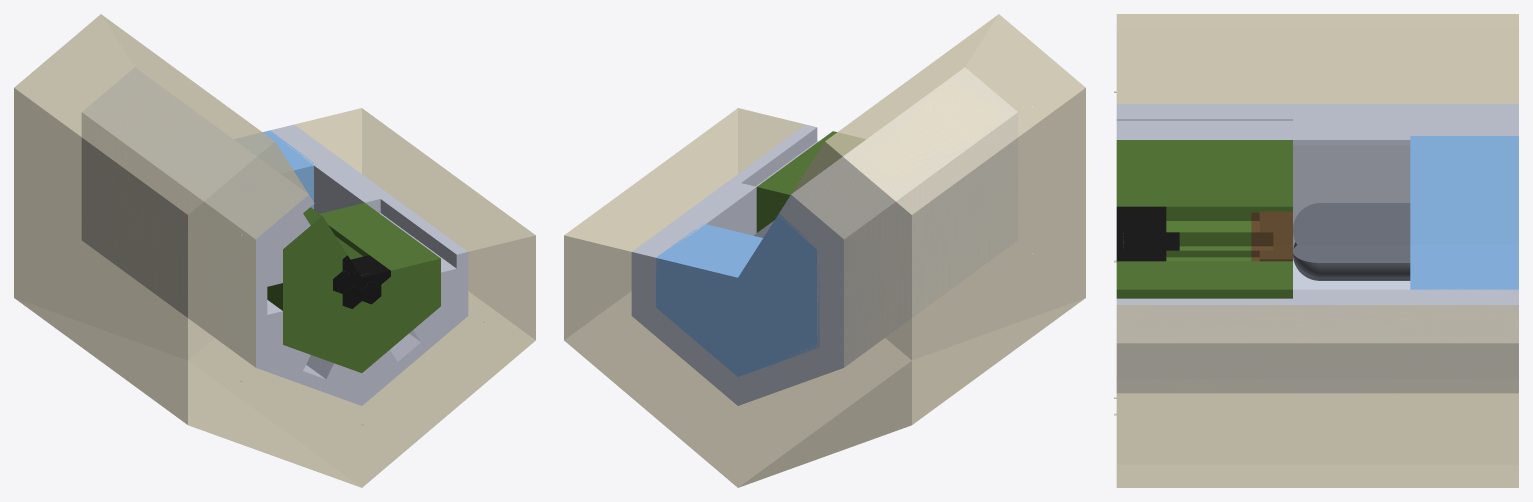
File: StarCore lower core 2 Part Lower Core - Bottom.obj
3 renders of one model, left to right at view 1: azimuth 30°, elevation 25°; view 2: azimuth 150°, elevation 25°; view 3: azimuth 270°, elevation 25°, orthographic. The views are drawn at different scales.
Parts seen in each view (by area): view 1: OuterShell_Bottom, CavityLiner_Bottom, SideReflector_Bottom, LowerPlenum_Bottom, BottomReflector_Bottom, FuelBundles_Bottom; view 2: OuterShell_Bottom, CavityLiner_Bottom, LowerPlenum_Bottom, SideReflector_Bottom, BottomReflector_Bottom; view 3: OuterShell_Bottom, CavityLiner_Bottom, LowerPlenum_Bottom, SideReflector_Bottom, BottomReflector_Bottom, SupportPosts_Bottom, FuelBundles_Bottom, SupportBlock_Bottom.
Boxes of the visible parts, x1,y1,x2,y2 form: OuterShell_Bottom: [14, 14, 535, 487]; CavityLiner_Bottom: [82, 67, 468, 405]; SideReflector_Bottom: [267, 203, 440, 372]; LowerPlenum_Bottom: [235, 130, 316, 209]; BottomReflector_Bottom: [332, 216, 419, 259]; FuelBundles_Bottom: [333, 255, 390, 308]; OuterShell_Bottom: [564, 14, 1085, 487]; CavityLiner_Bottom: [631, 67, 1017, 405]; LowerPlenum_Bottom: [656, 213, 819, 376]; SideReflector_Bottom: [756, 131, 864, 232]; BottomReflector_Bottom: [775, 147, 826, 180]; OuterShell_Bottom: [1114, 14, 1518, 487]; CavityLiner_Bottom: [1116, 104, 1518, 392]; LowerPlenum_Bottom: [1410, 136, 1518, 289]; SideReflector_Bottom: [1116, 140, 1292, 298]; BottomReflector_Bottom: [1166, 140, 1251, 298]; SupportPosts_Bottom: [1293, 203, 1410, 280]; FuelBundles_Bottom: [1116, 206, 1179, 261]; SupportBlock_Bottom: [1251, 211, 1292, 261].
Bounding box in the file's own units: 815 × 823 × 711.
